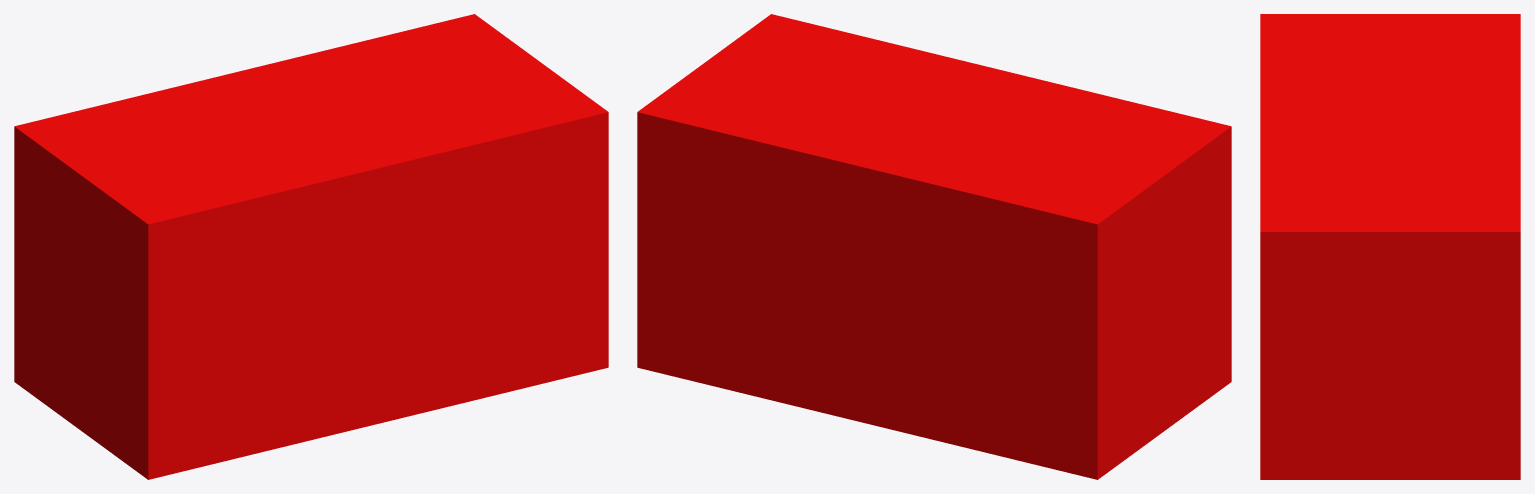
File: prox_phalanx1_lvs_col.dae
3 views of the same model, side by side, from view 1: azimuth 30°, elevation 25°; view 2: azimuth 150°, elevation 25°; view 3: azimuth 270°, elevation 25° (orthographic). The views are drawn at different scales.
Visible parts, largest first — view 1: node0; view 2: node0; view 3: node0.
Part boxes in pixels (x1=…): node0: x1=14, y1=14, x2=608, y2=479; node0: x1=637, y1=14, x2=1231, y2=479; node0: x1=1260, y1=14, x2=1520, y2=479.
Bounding box in the file's own units: 0.044 × 0.0233 × 0.0222.
